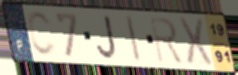7: (54, 10, 80, 60)
C: (26, 10, 58, 59)
I: (125, 14, 143, 64)
J: (95, 14, 119, 60)
R: (147, 15, 185, 65)
X: (176, 16, 215, 67)
